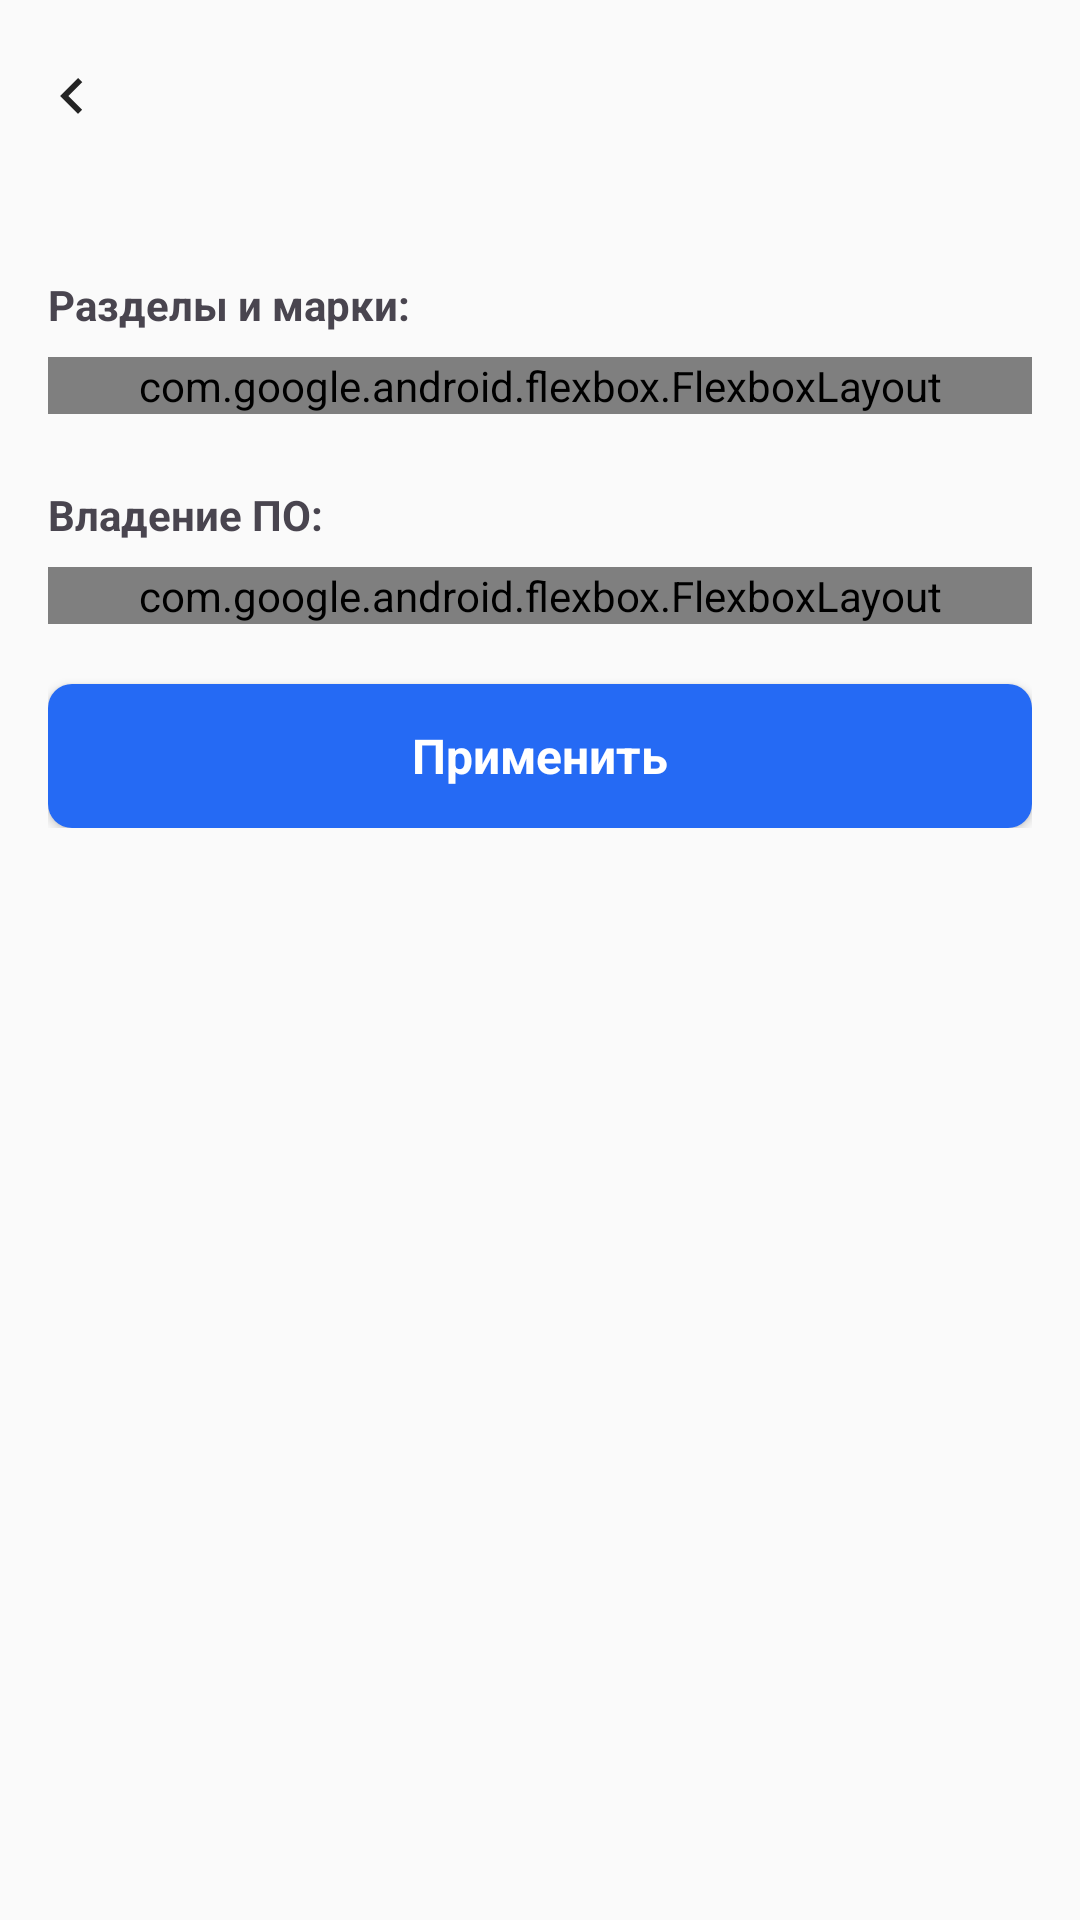

Screen size 1080×1920. Icon name, then its center in pixels as point (x, y):
GO BACK: point (71, 96)
